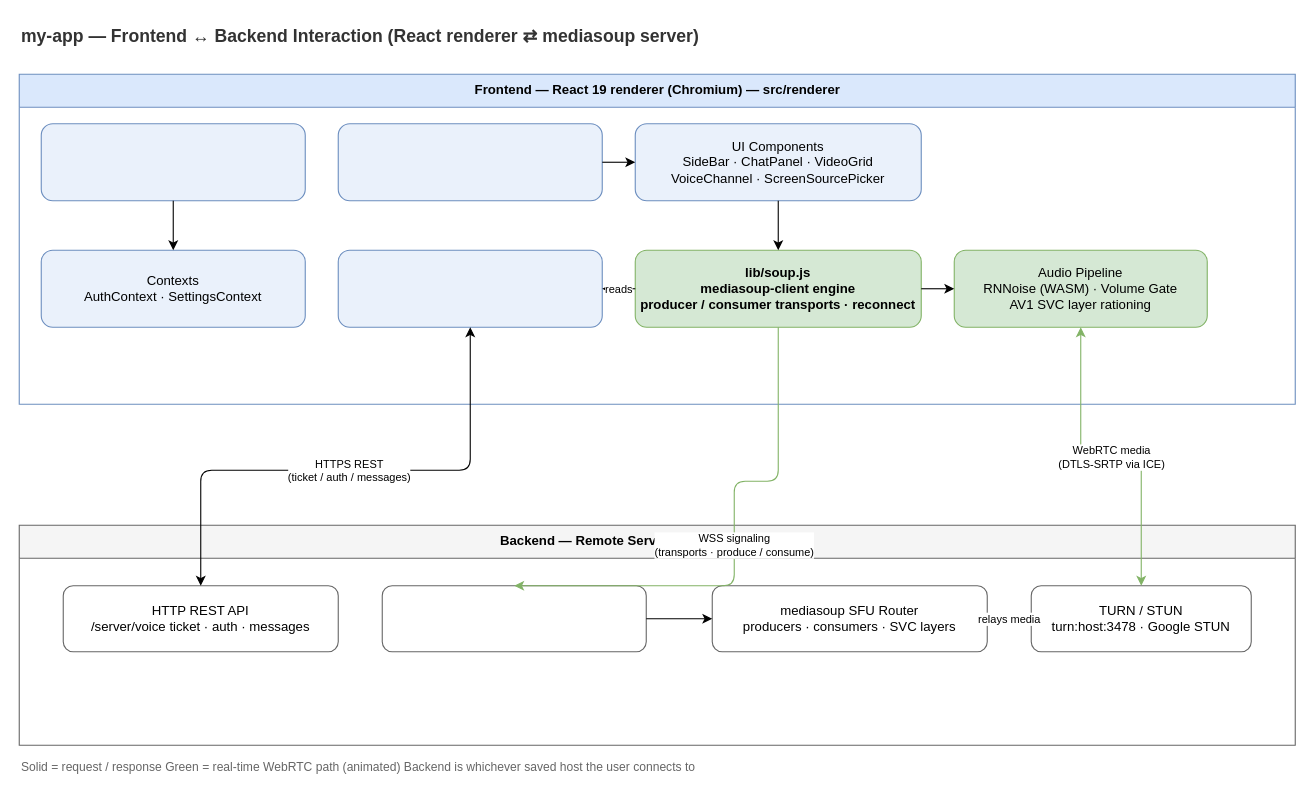
Image size: 1315x796. Some labels were removed from this diagram. Each missing label, with the centre of its shape:
"lib/serverConfig.js apiBase · wsBase · getIceServers (active host = ip:port)" belongs at (x=469, y=288).
"Pages / Routes Main · Settings · Popout" belongs at (x=469, y=162).
"Provider Tree ErrorBoundary → HashRouter → Auth → Settings" belongs at (x=172, y=162).
"Voice WebSocket ws://host/voice · signaling" belongs at (x=513, y=618).
